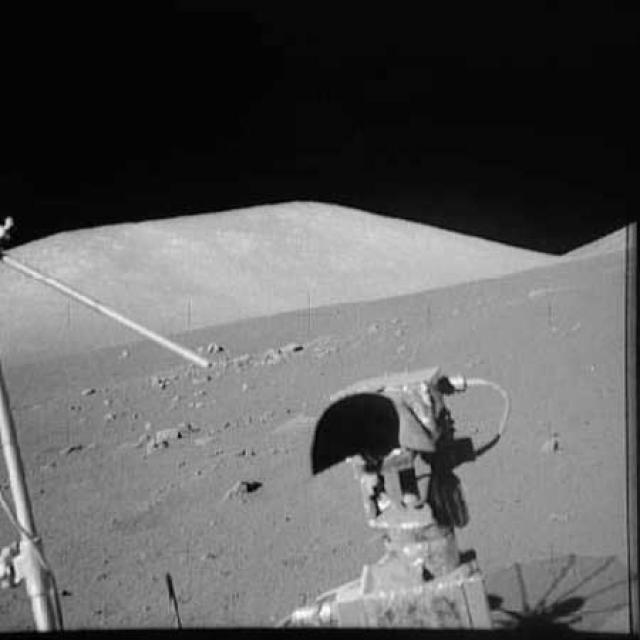artifact: (260, 360, 519, 638), (3, 212, 211, 384), (3, 384, 71, 639)
rock: (127, 418, 198, 453), (219, 471, 260, 507), (535, 426, 564, 458)
